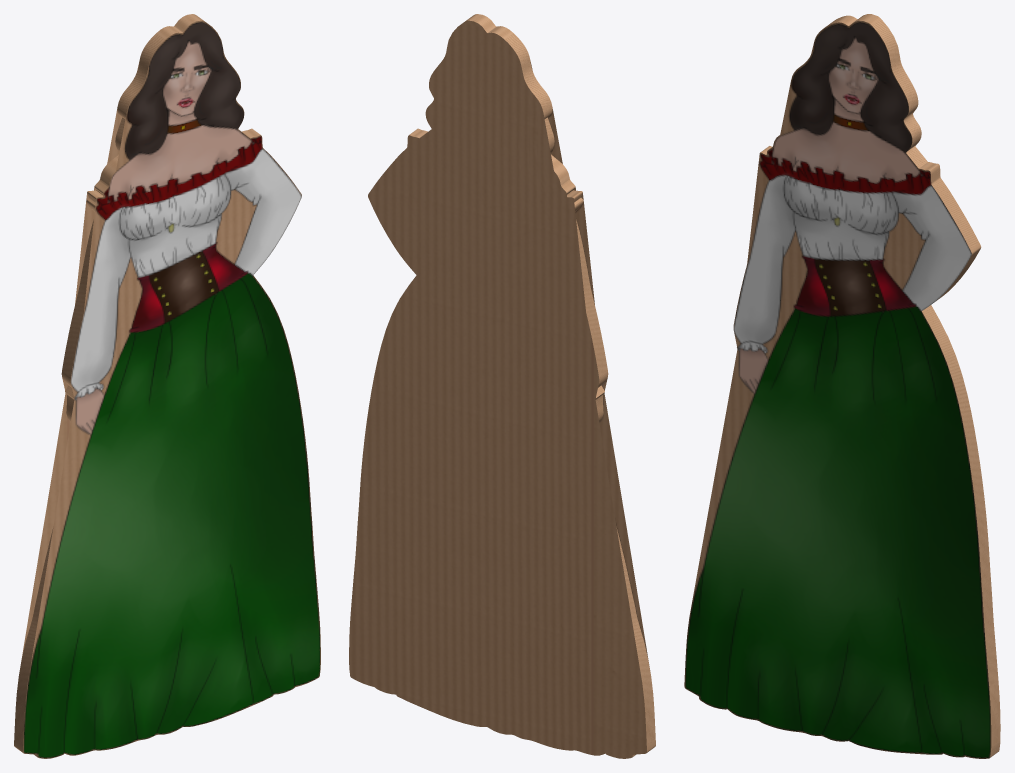
The model's file is Adalida.fbx.
3 renders of one model, left to right at view 1: azimuth 30°, elevation 25°; view 2: azimuth 150°, elevation 25°; view 3: azimuth 330°, elevation 25°, orthographic. The views are drawn at different scales.
Visible parts, largest first — view 1: svgMesh1; view 2: svgMesh1; view 3: svgMesh1.
Boxes of the visible parts, <box> form: svgMesh1: <box>14,14,320,758</box>; svgMesh1: <box>349,14,655,758</box>; svgMesh1: <box>684,14,1000,758</box>.
Bounding box in the file's own units: 8.76 × 19.87 × 0.4558.
Materials: 1 (1 with a texture image).
